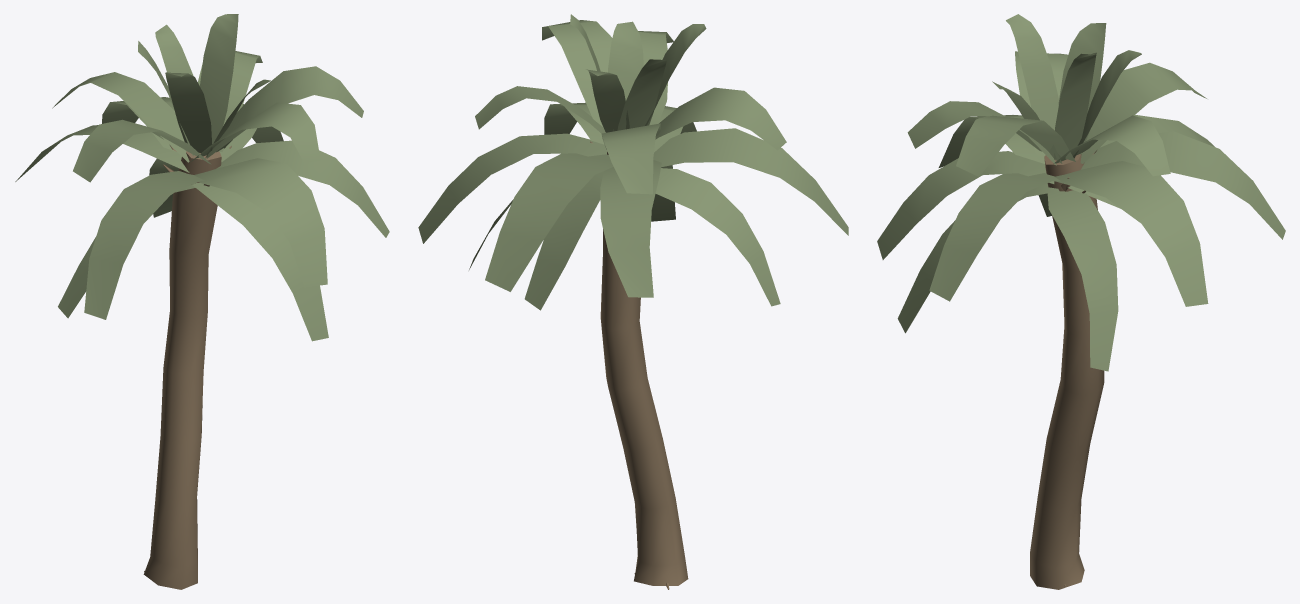
Rendered from palm-1_lod1.glb.
3 renders of one model, left to right at view 1: azimuth 30°, elevation 25°; view 2: azimuth 150°, elevation 25°; view 3: azimuth 270°, elevation 25°, orthographic. The views are drawn at different scales.
Visible parts, largest first — view 1: 海枣棕榈 · 舒展羽冠 LOD1; view 2: 海枣棕榈 · 舒展羽冠 LOD1; view 3: 海枣棕榈 · 舒展羽冠 LOD1.
Boxes of the visible parts, bbox=[...] form: 海枣棕榈 · 舒展羽冠 LOD1: bbox=[15, 14, 389, 589]; 海枣棕榈 · 舒展羽冠 LOD1: bbox=[418, 14, 848, 589]; 海枣棕榈 · 舒展羽冠 LOD1: bbox=[877, 14, 1285, 589].
Bounding box in the file's own units: 7.21 × 12 × 7.88.
